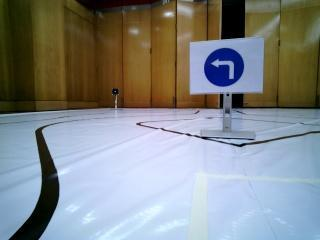left: (194, 46, 258, 89)
